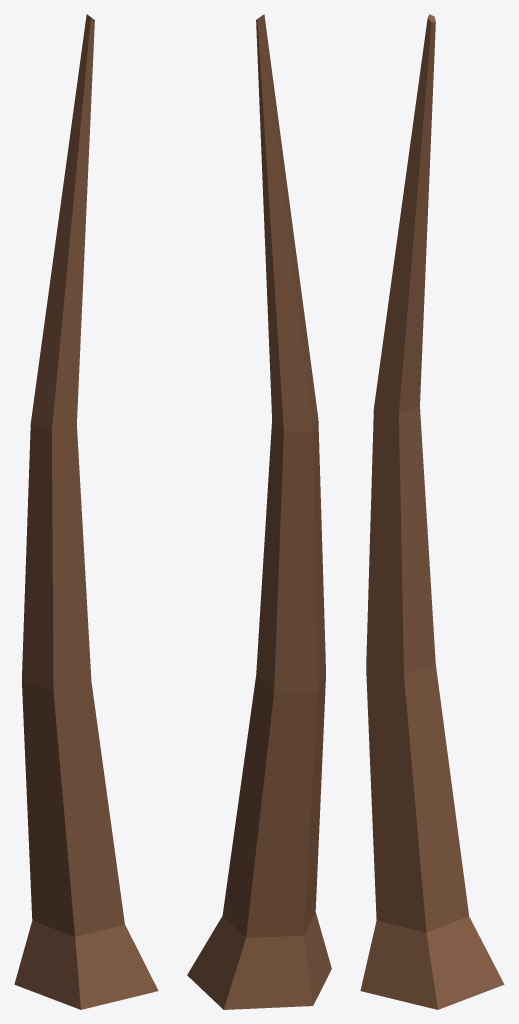
File: tree_bark_2.fbx
3 views of the same model, side by side, from view 1: azimuth 30°, elevation 25°; view 2: azimuth 150°, elevation 25°; view 3: azimuth 330°, elevation 25° (orthographic).
Parts seen in each view (by area): view 1: fir; view 2: fir; view 3: fir.
Part boxes in pixels (<box>): fir: <box>14,14,158,1009</box>; fir: <box>187,14,331,1009</box>; fir: <box>360,14,504,1009</box>.
Size of the model in its own units: 78.59 by 576 by 74.75.
